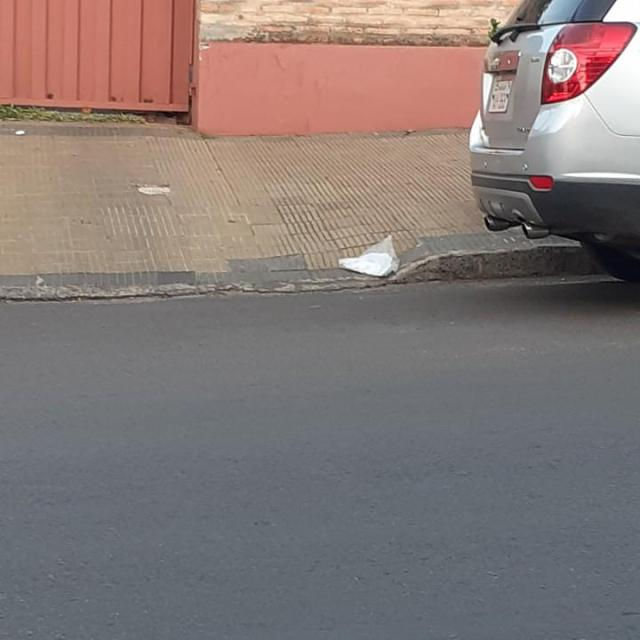litter: (333, 229, 403, 280)
